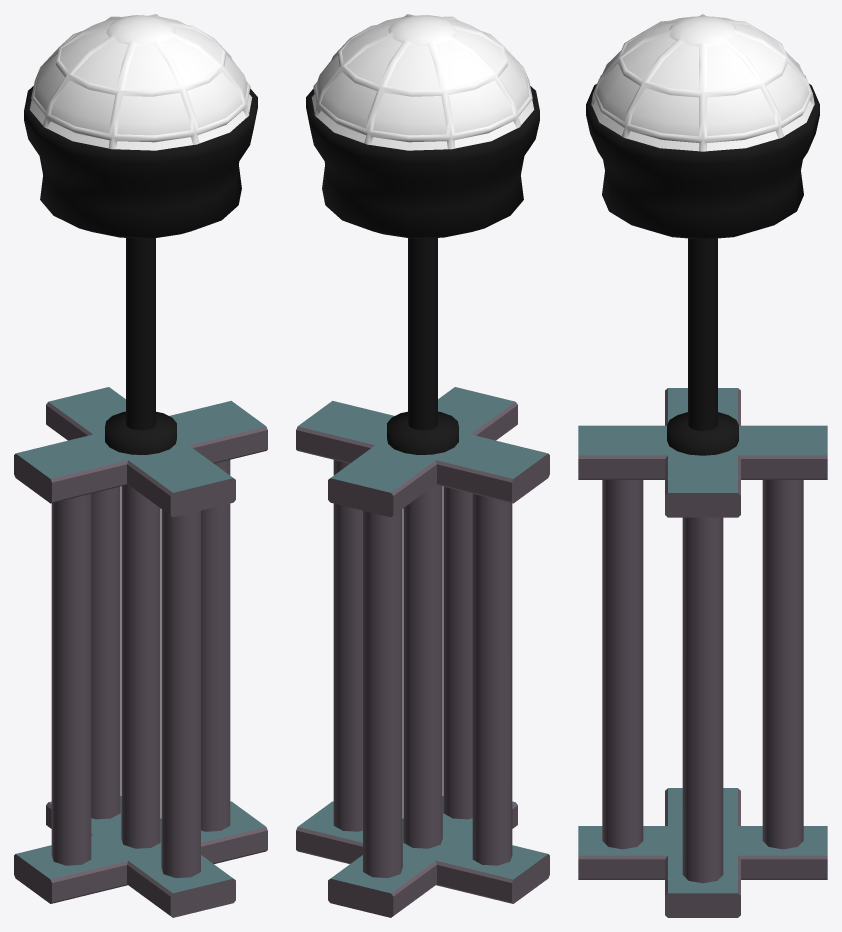
The model's file is GB_144_railing_lamp_var01.glb.
The picture shows the model from 3 angles, left to right: view 1: azimuth 30°, elevation 25°; view 2: azimuth 150°, elevation 25°; view 3: azimuth 270°, elevation 25°; orthographic projection.
Parts seen in each view (by area): view 1: RailingLamp_RailingVar01, RailingLamp_LampVar01; view 2: RailingLamp_RailingVar01, RailingLamp_LampVar01; view 3: RailingLamp_RailingVar01, RailingLamp_LampVar01.
Part boxes in pixels (x1=…): RailingLamp_RailingVar01: x1=14, y1=387, x2=267, y2=917; RailingLamp_LampVar01: x1=24, y1=14, x2=257, y2=454; RailingLamp_RailingVar01: x1=296, y1=387, x2=549, y2=917; RailingLamp_LampVar01: x1=306, y1=14, x2=539, y2=454; RailingLamp_RailingVar01: x1=578, y1=388, x2=827, y2=917; RailingLamp_LampVar01: x1=586, y1=14, x2=819, y2=455.
Bounding box in the file's own units: 0.752 × 2.81 × 0.752.
